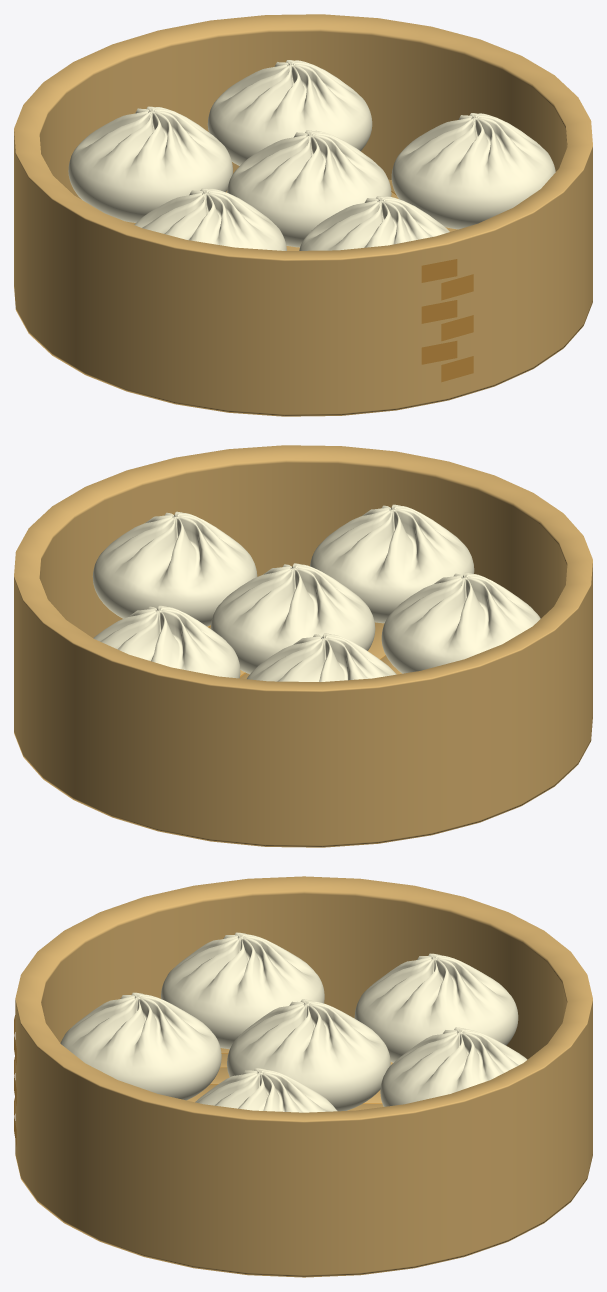
Rendered from xlb.fbx.
3 renders of one model, top to bottom at view 1: azimuth 30°, elevation 25°; view 2: azimuth 150°, elevation 25°; view 3: azimuth 270°, elevation 25°, orthographic.
Visible parts, largest first — view 1: basket, baos; view 2: basket, baos; view 3: basket, baos.
Part boxes in pixels (x1,y1,x2,y2): basket: (14, 14, 592, 416); baos: (68, 60, 555, 250); basket: (14, 445, 592, 847); baos: (92, 504, 540, 681); basket: (14, 876, 592, 1277); baos: (60, 932, 527, 1112).
Bounding box in the file's own units: 48.02 × 14.41 × 48.14.
